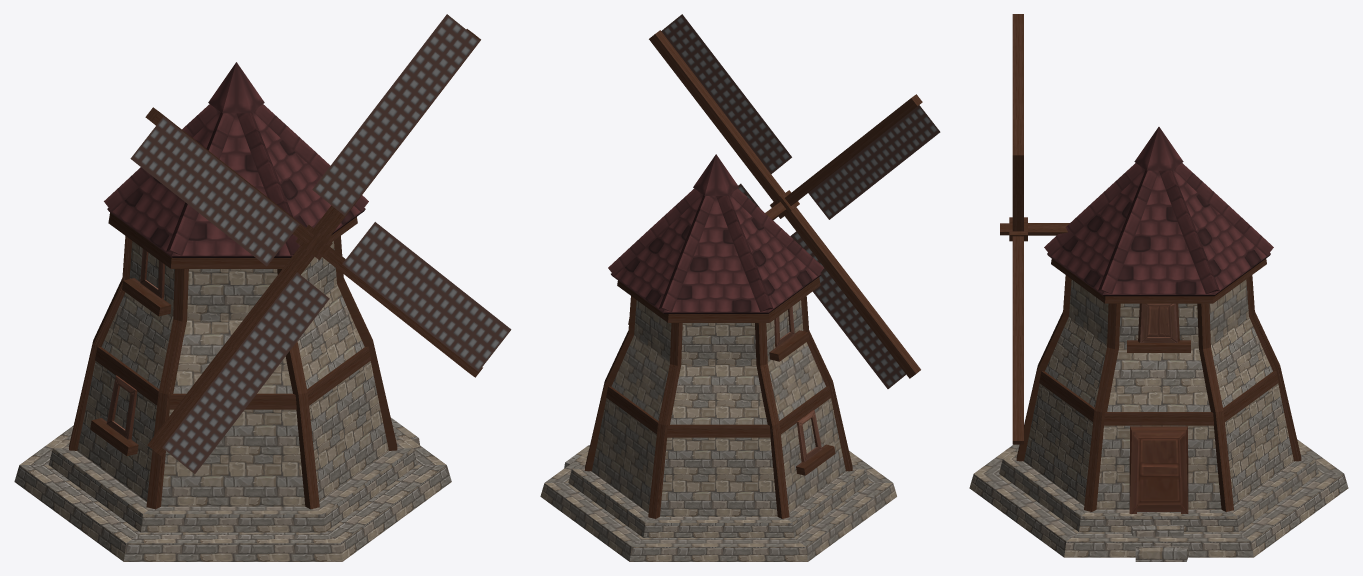
Rendered from OutdoorM_windmill.FBX.
The picture shows the model from 3 angles, left to right: view 1: azimuth 30°, elevation 25°; view 2: azimuth 150°, elevation 25°; view 3: azimuth 270°, elevation 25°; orthographic projection. The views are drawn at different scales.
Parts seen in each view (by area): view 1: OutdoorM_windmill; view 2: OutdoorM_windmill; view 3: OutdoorM_windmill.
Boxes of the visible parts, x1,y1,x2,y2 form: OutdoorM_windmill: (14, 14, 511, 561); OutdoorM_windmill: (540, 14, 940, 561); OutdoorM_windmill: (969, 14, 1348, 561).
Size of the model in its own units: 101 by 127 by 101.
